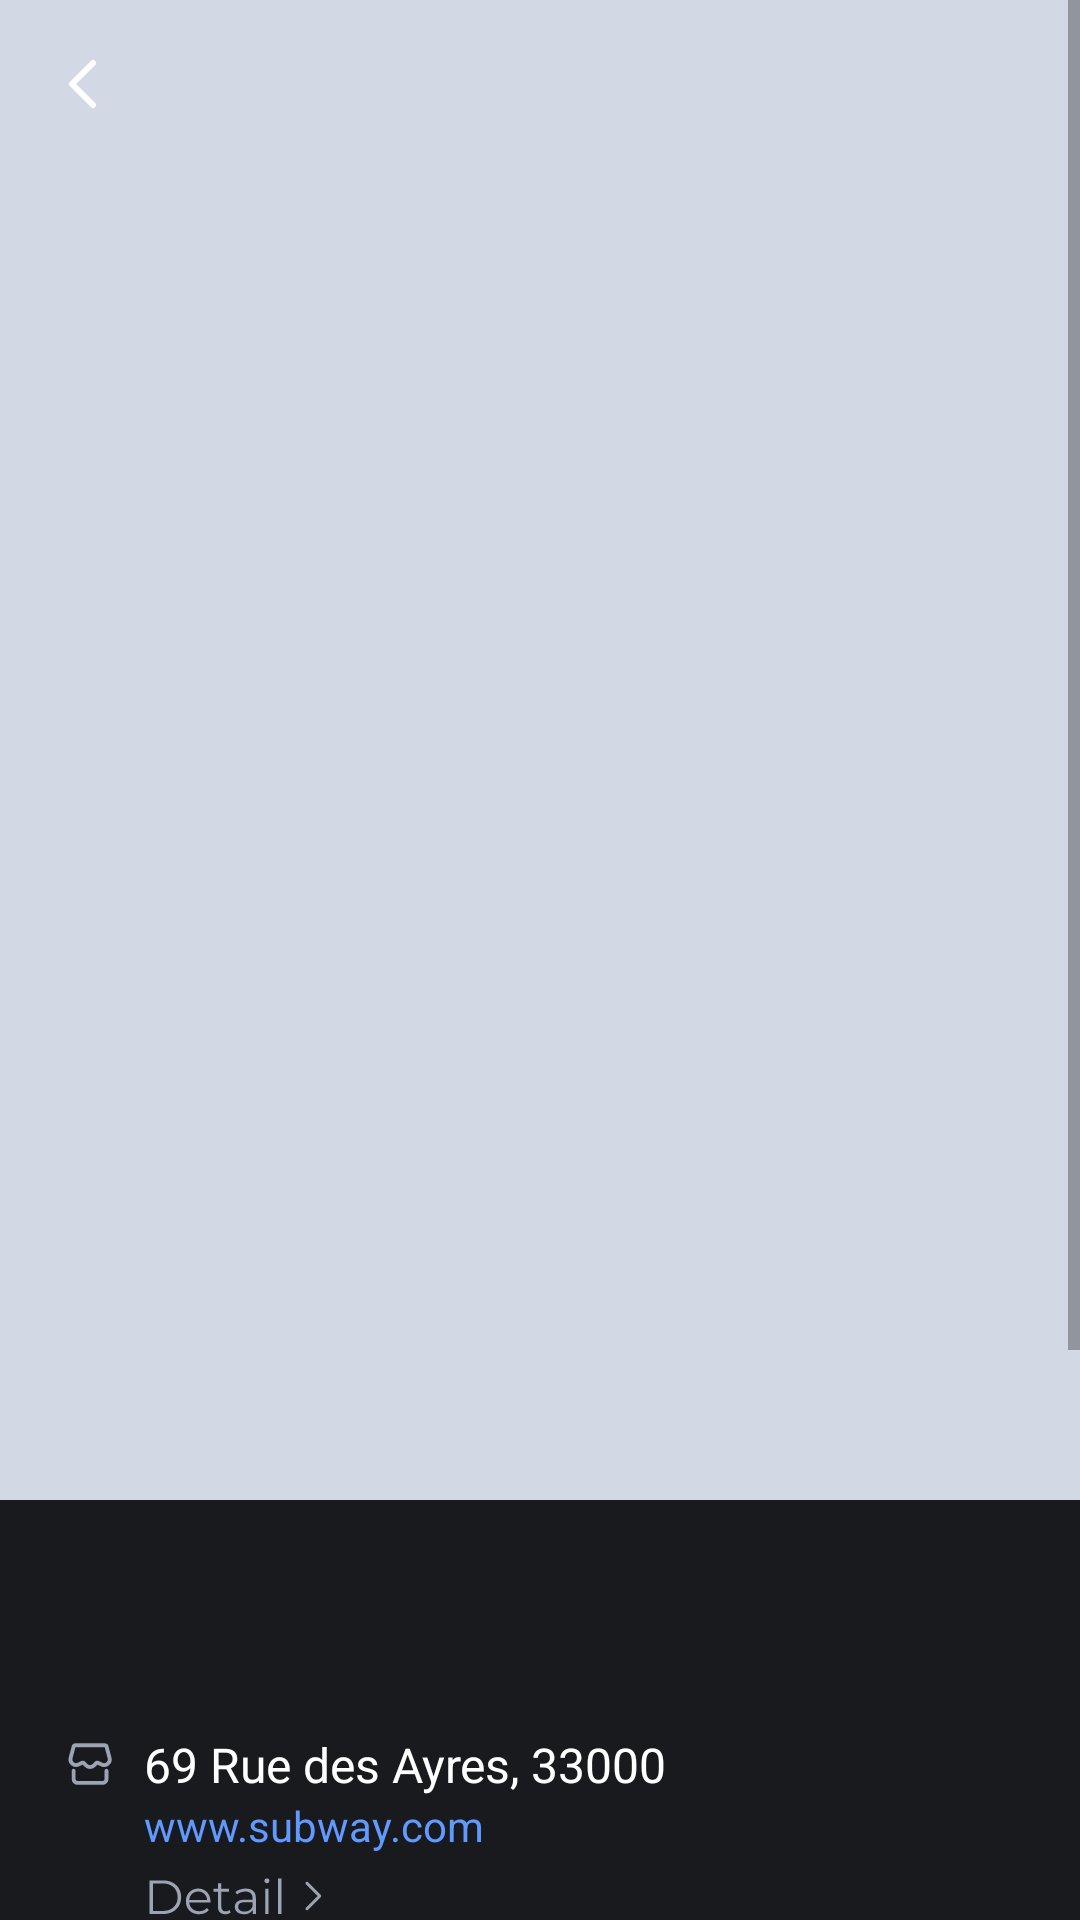

Icons on this 1080x1920 Android screen, each with its box as (x1, y1, x2, y2):
back: (69, 60, 96, 108)
